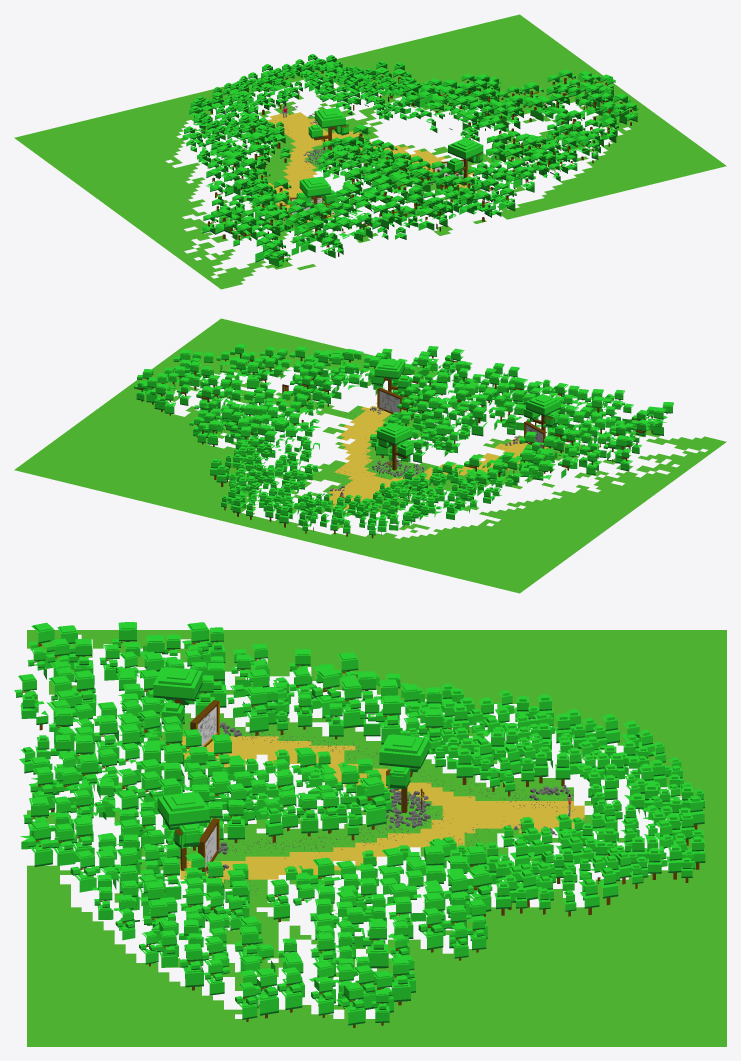
The model's file is crossy_road4_w_colliders.glb.
3 renders of one model, top to bottom at view 1: azimuth 30°, elevation 25°; view 2: azimuth 150°, elevation 25°; view 3: azimuth 270°, elevation 25°, orthographic. The views are drawn at different scales.
Visible parts, largest first — view 1: level.003, big tree, big tree.001, big tree.002; view 2: level.003, big tree, big tree.002, big tree.001, project1; view 3: level.003, big tree.001, big tree, big tree.002, project2, project1.
Part boxes in pixels (x1,y1,x2,y2): level.003: (14,14,726,289); big tree: (308,107,348,150); big tree.001: (447,138,483,185); big tree.002: (296,176,336,215); level.003: (14,318,726,593); big tree: (377,423,413,470); big tree.002: (524,394,560,438); big tree.001: (371,359,411,391); project1: (377,387,403,414); level.003: (14,622,726,1046); big tree.001: (157,792,209,870); big tree: (379,734,429,813); big tree.002: (153,667,202,724); project2: (190,700,219,753); project1: (198,818,219,872).
Size of what is drawn, in the model's own units: 294 by 23.21 by 213.
Materials: 17 (2 with a texture image).
